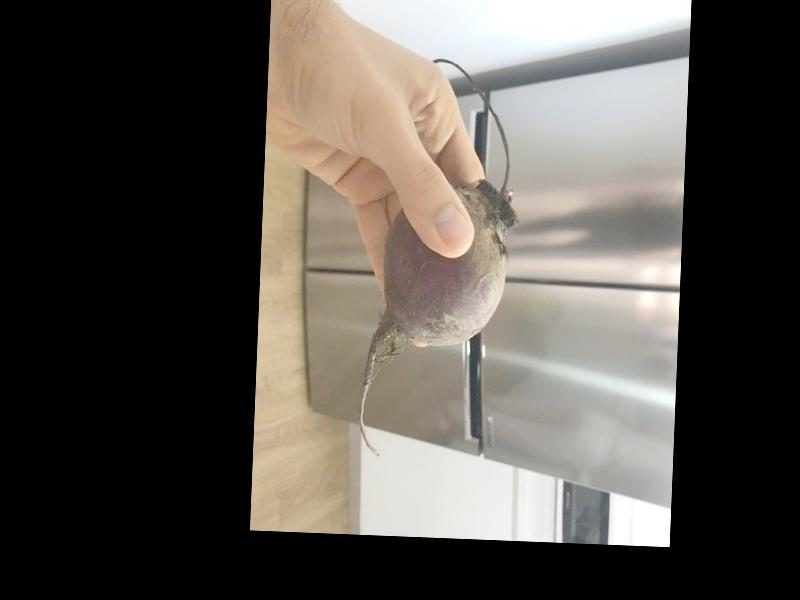Beet: (356, 56, 521, 464)
